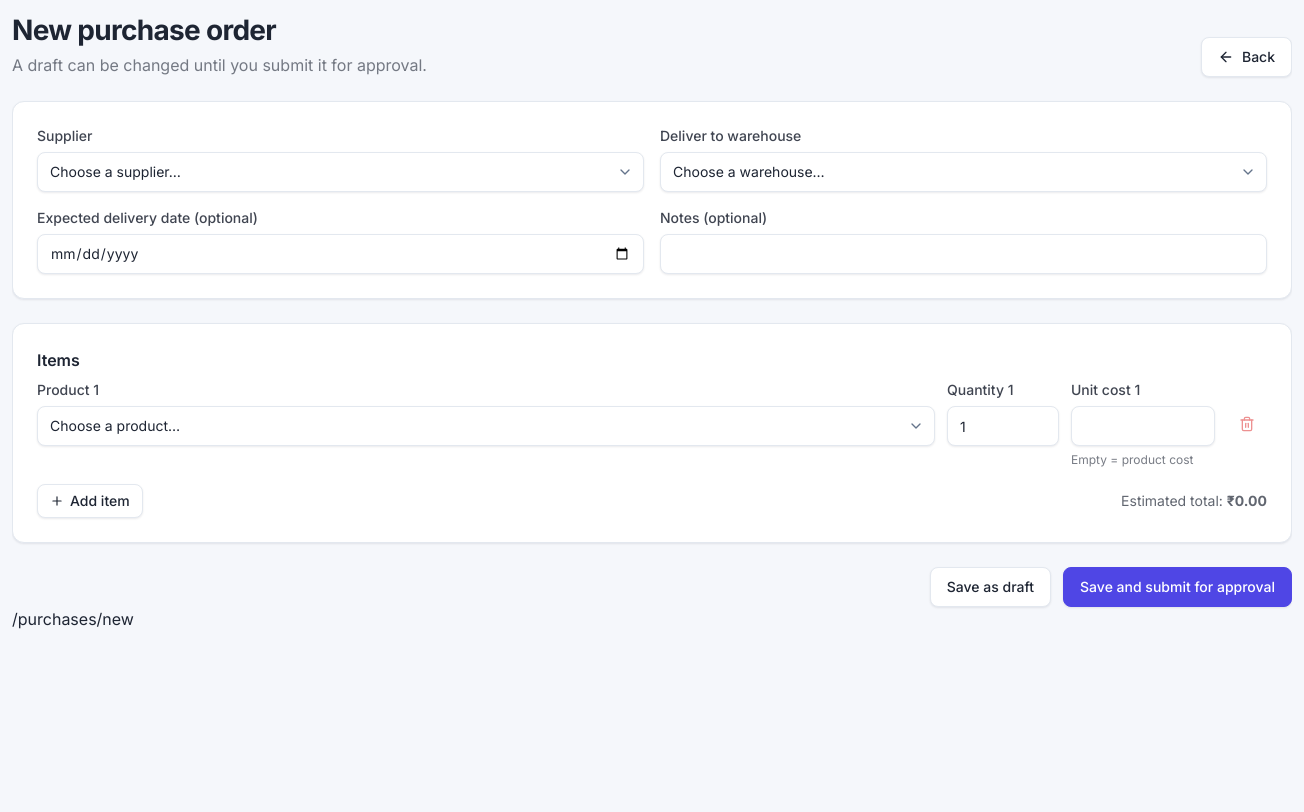
Scenario: PurchaseFormPage — new › the estimated total uses the entered cost, or else the product's cost price
This screenshot has width=1304, height=812.
Step 1. Select "Keyboard (KEY-K100) — cost ₹400.00" in the dropdown labelled "Product 1" → [486, 426], box [37,406,935,446]
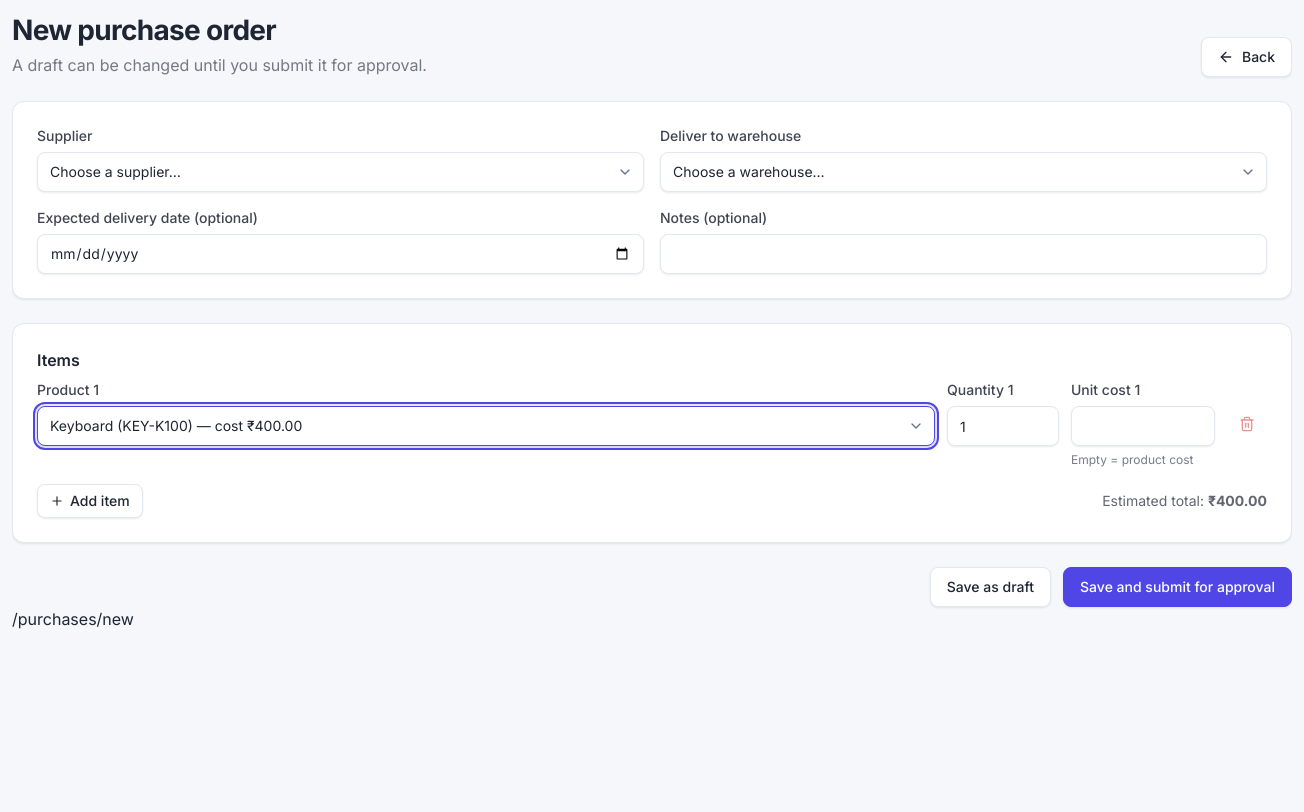
Step 2. Replace the text in the number field labelled "Quantity 1" with "10" → [1003, 426], box [947,406,1059,446]
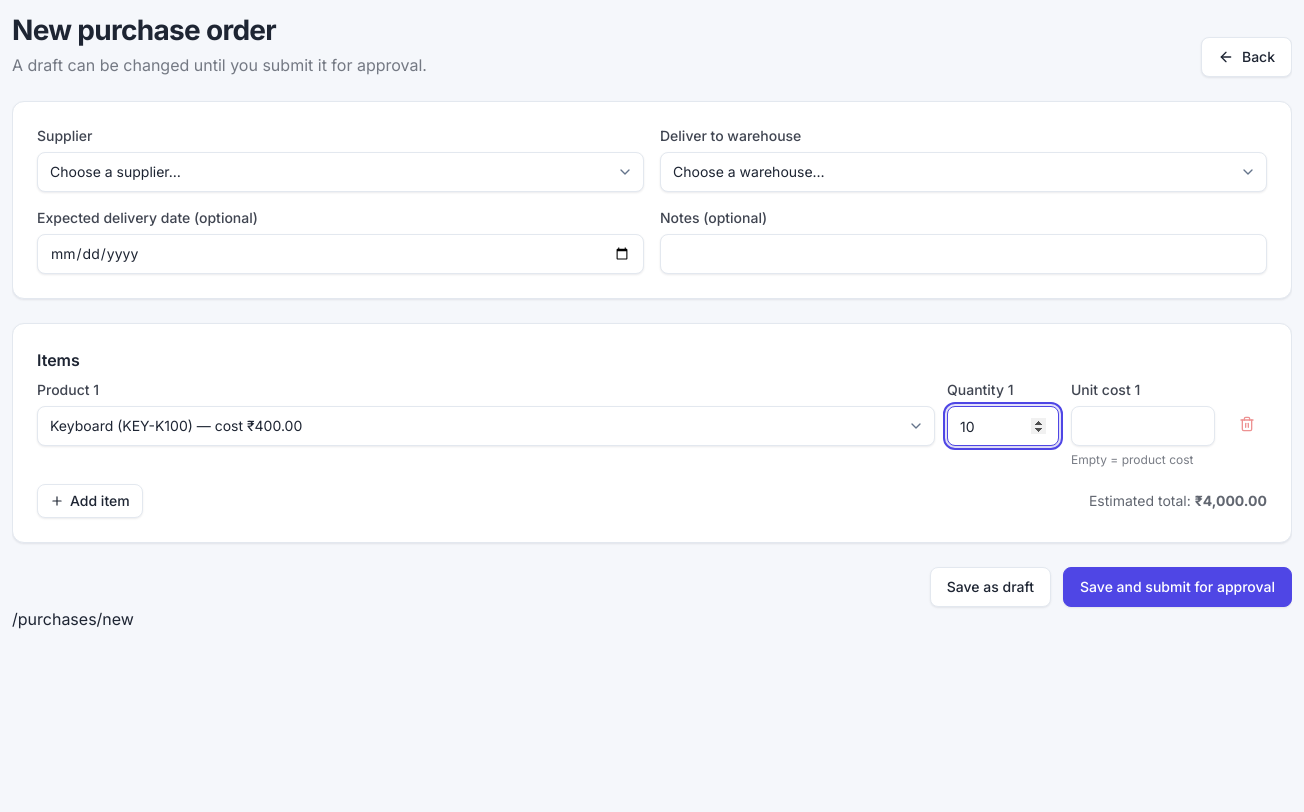
Result: the element with test id "estimate" shows "₹4,000.00" at [1195,492,1267,509]
Step 3. Type "350" into the number field labelled "Unit cost 1" → [1143, 426], box [1071,406,1215,446]
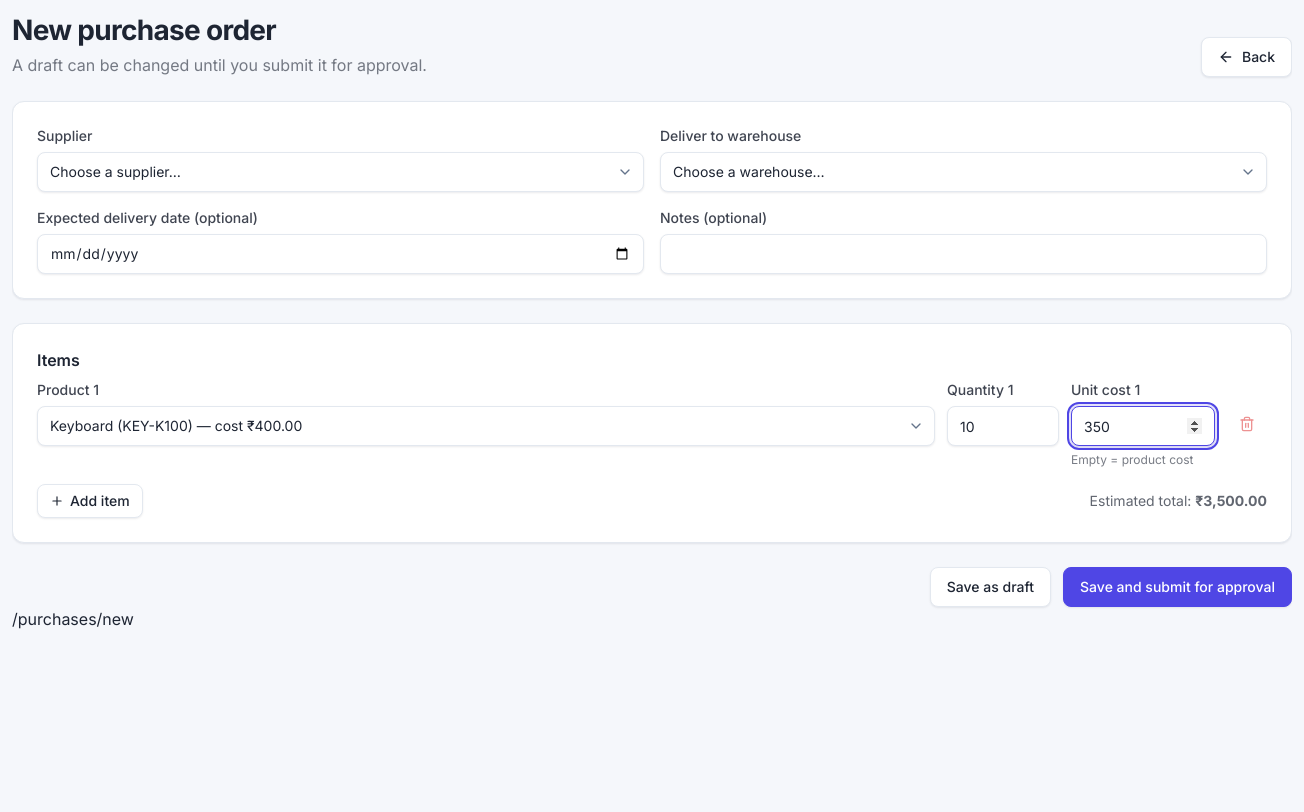
Result: the element with test id "estimate" shows "₹3,500.00" at [1195,492,1267,509]
Step 4. Click the button "Add item" → [90, 501], box [37,484,143,518]
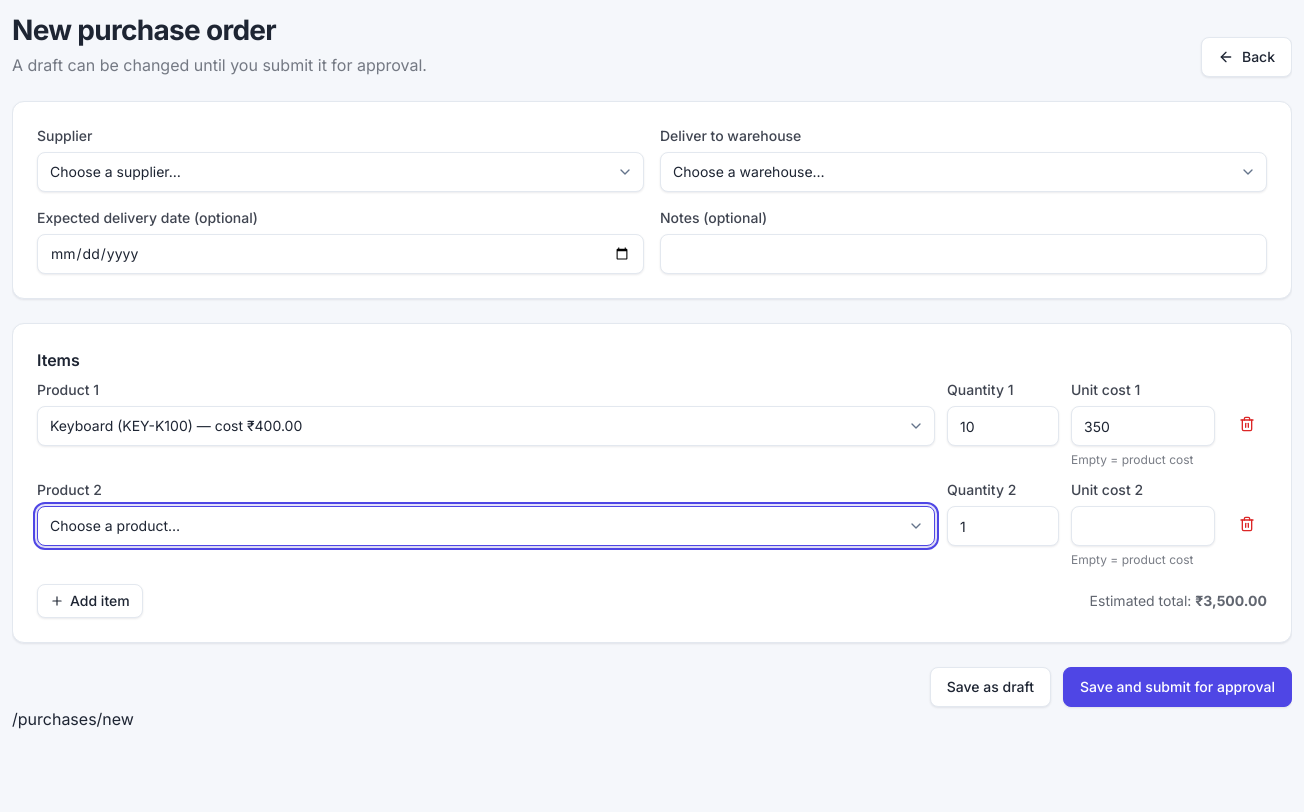
Step 5. Select "Mouse (MOU-M185) — cost ₹150.00" in the dropdown labelled "Product 2" → [486, 526], box [37,506,935,546]
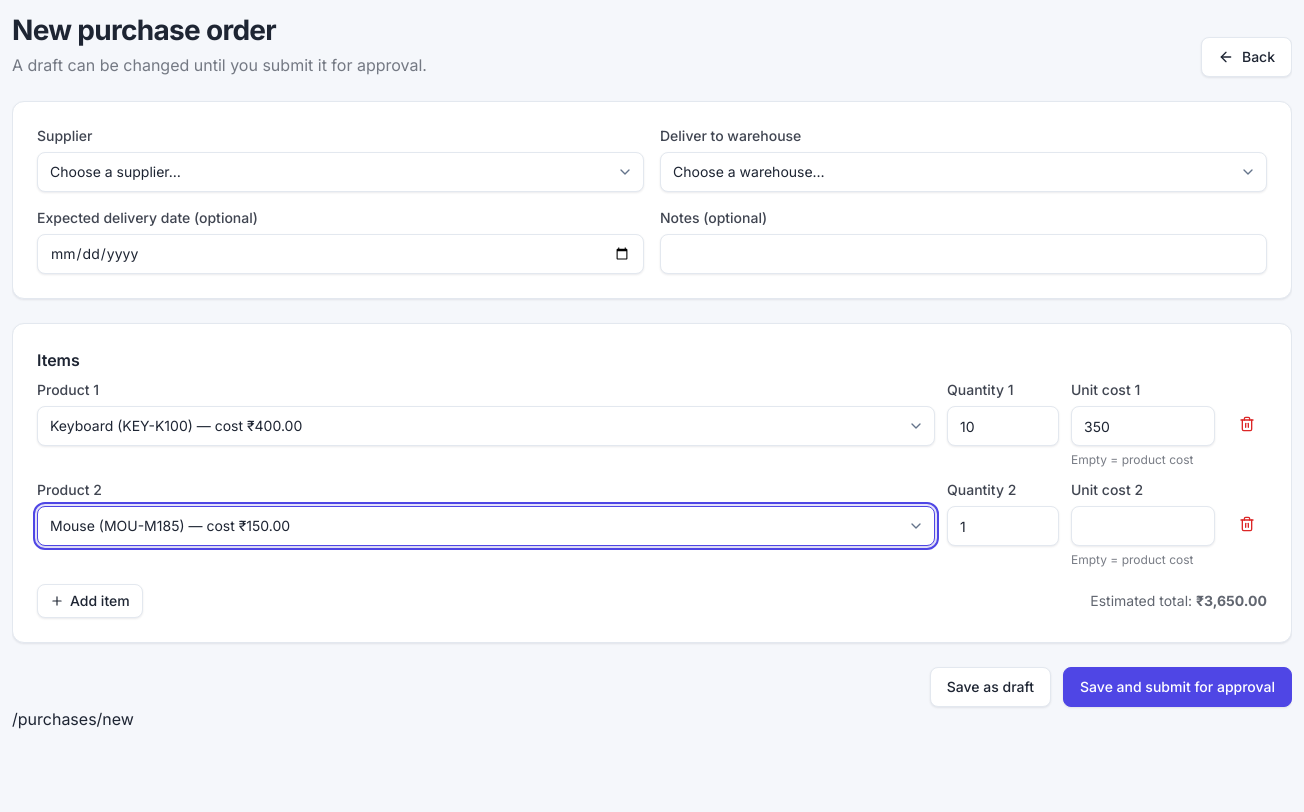
Result: the element with test id "estimate" shows "₹3,650.00" at [1196,592,1267,609]
